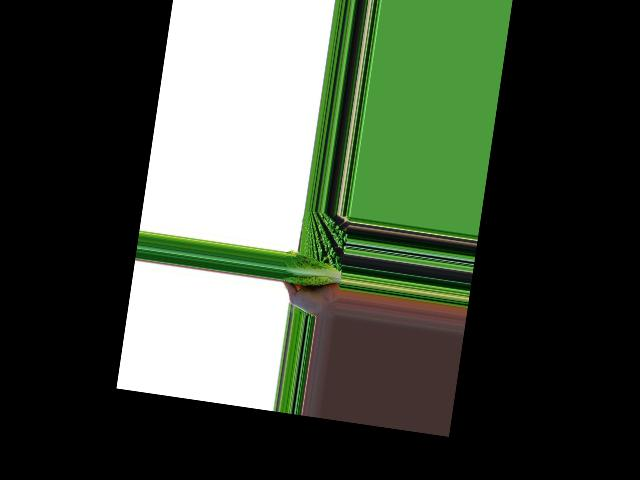lettuce: (283, 251, 344, 290)
